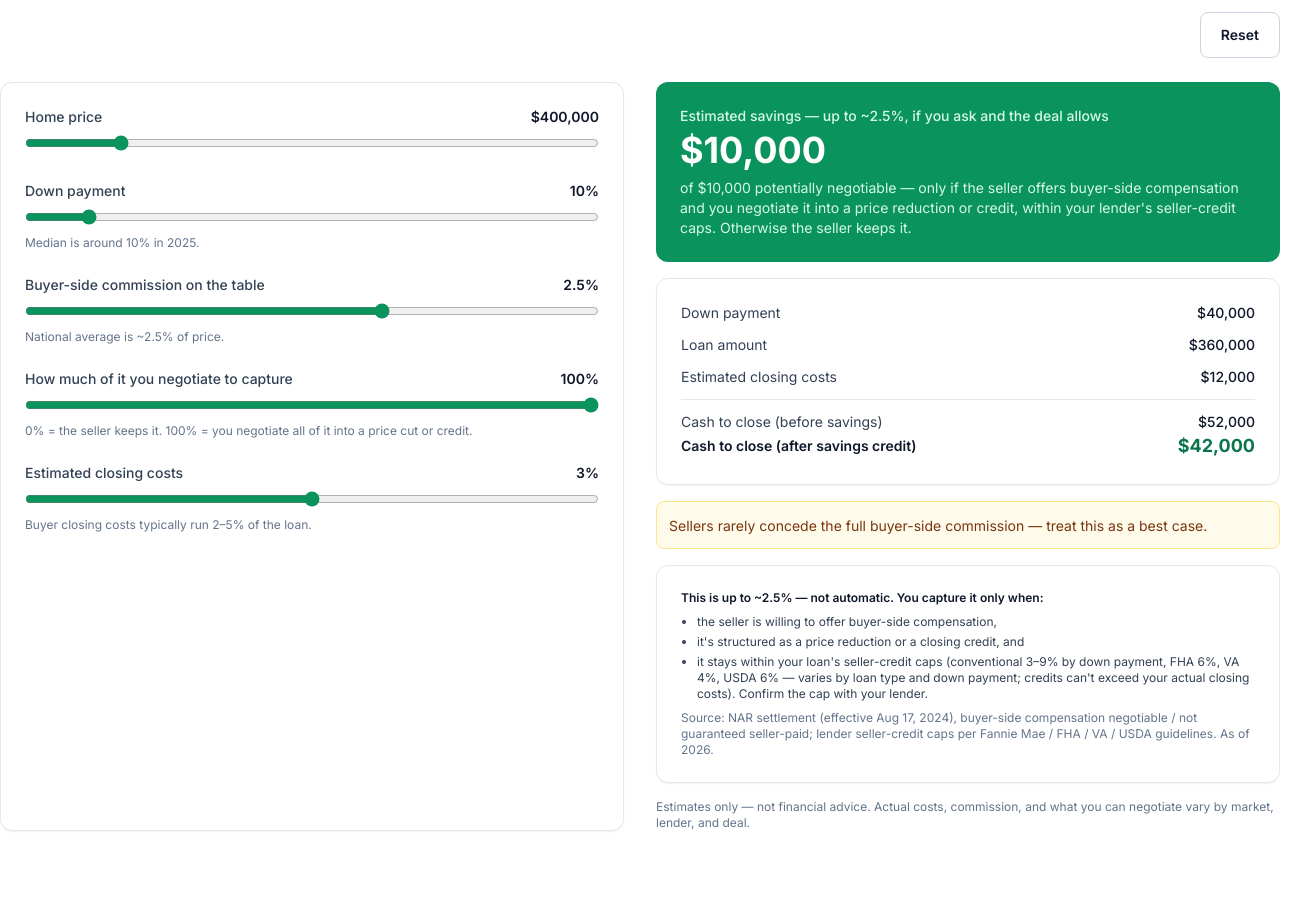
Test: SavingsCalculator › at 0% capture the figure is $0 and the 'seller keeps it' framing is present (J2 edge)
Set the slider labelled "How much of it you negotiate to capture" to "0" at (33, 405), box [25, 397, 599, 413]
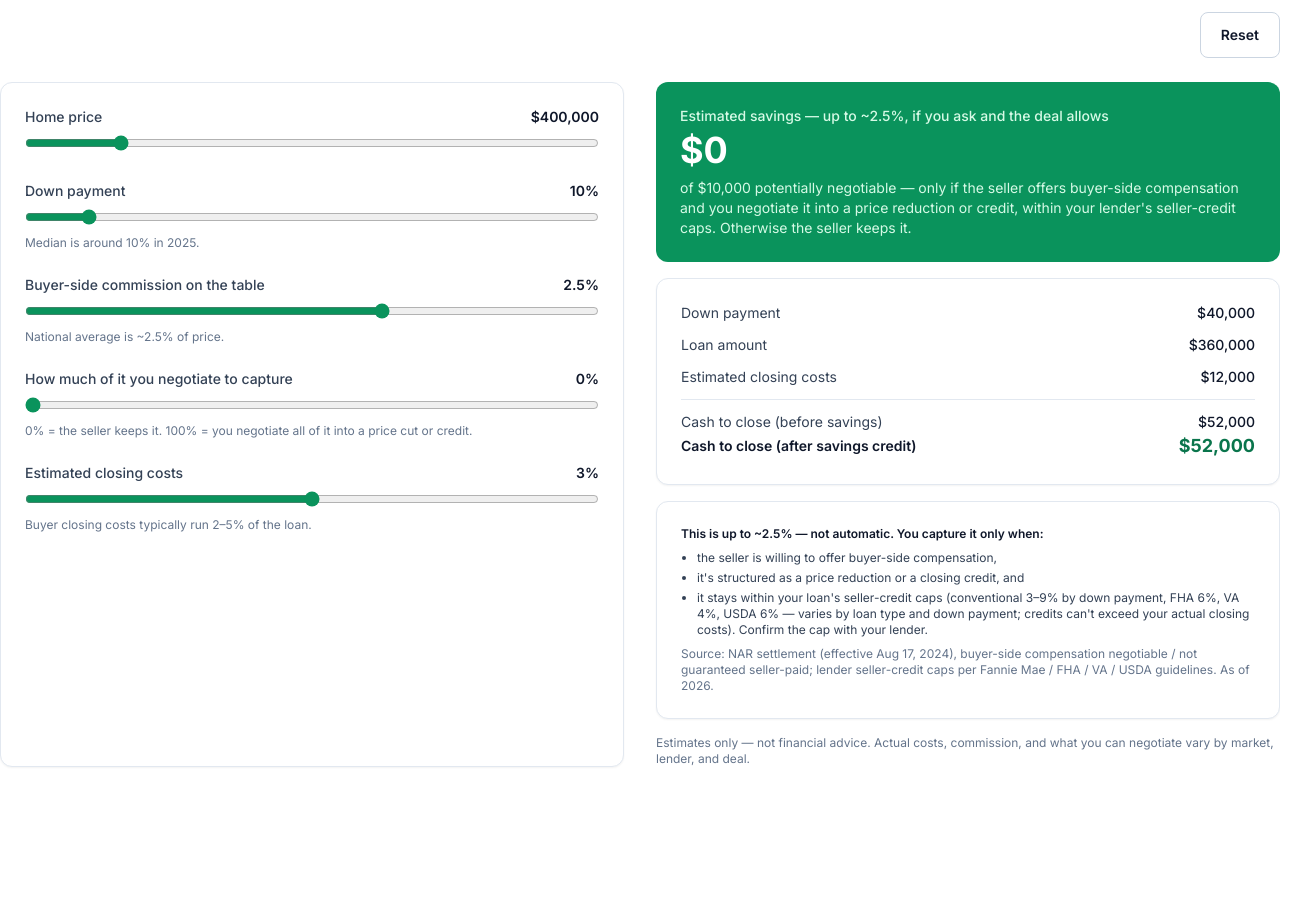
Expected: the text with test id "savings-caveat" shows "seller keeps it", [680, 179, 1239, 236]
Expected: the text with test id "captured-savings" reads "$0", [680, 128, 728, 172]
